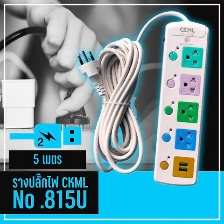three_eye_plug: (147, 16, 210, 187)
